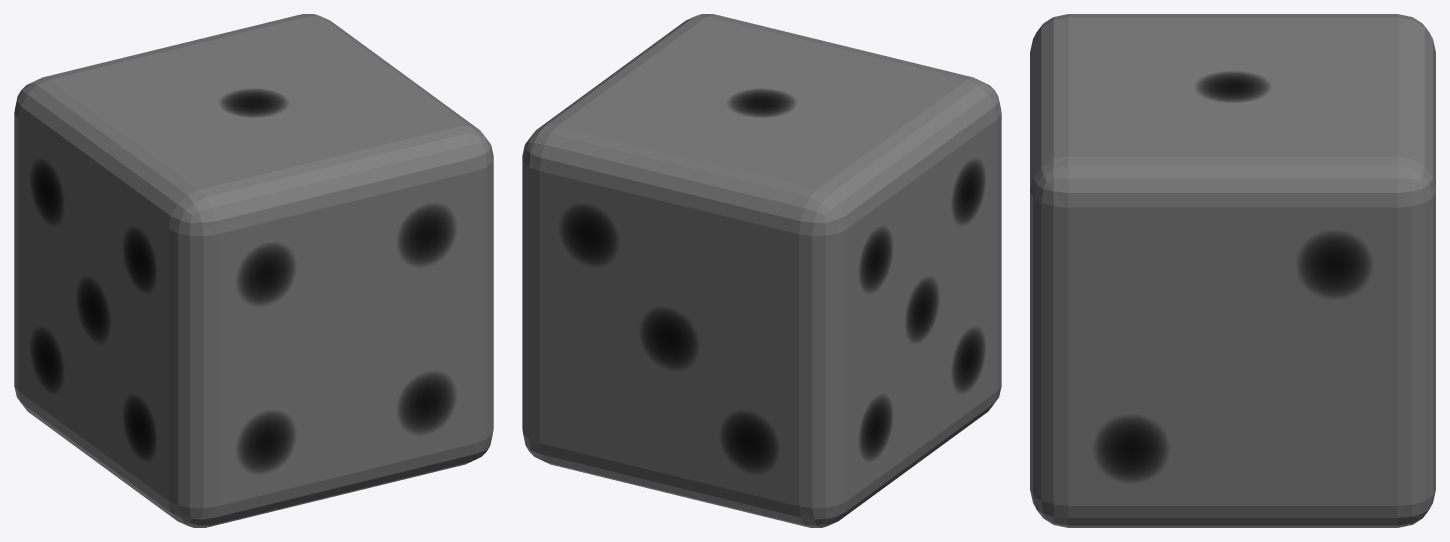
File: dice1.fbx
3 renders of one model, left to right at view 1: azimuth 30°, elevation 25°; view 2: azimuth 150°, elevation 25°; view 3: azimuth 270°, elevation 25°, orthographic. The views are drawn at different scales.
Parts seen in each view (by area): view 1: Object; view 2: Object; view 3: Object.
Boxes of the visible parts, x1,y1,x2,y2 form: Object: [14, 14, 493, 527]; Object: [522, 14, 1001, 527]; Object: [1030, 14, 1435, 527].
Bounding box in the file's own units: 194 × 194 × 194.
1 material, 1 textured.
